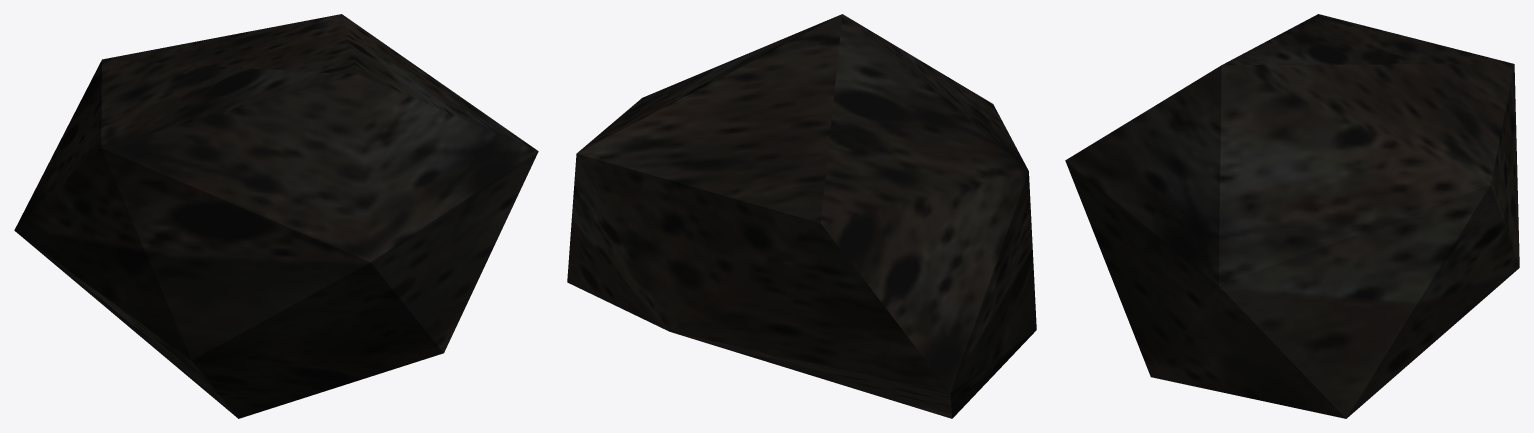
The model's file is CoalPiece1.fbx.
3 views of the same model, side by side, from view 1: azimuth 30°, elevation 25°; view 2: azimuth 150°, elevation 25°; view 3: azimuth 270°, elevation 25° (orthographic). The views are drawn at different scales.
Parts seen in each view (by area): view 1: pPlatonic2; view 2: pPlatonic2; view 3: pPlatonic2.
Part boxes in pixels (x1,y1,x2,y2): pPlatonic2: [14, 14, 538, 418]; pPlatonic2: [567, 14, 1036, 418]; pPlatonic2: [1065, 14, 1519, 418].
Size of the model in its own units: 0.9897 by 0.7586 by 0.9008.
